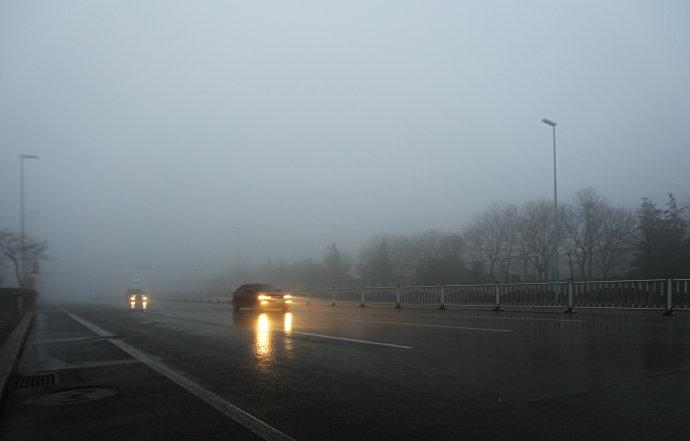car: (231, 282, 293, 311), (123, 286, 147, 305)
